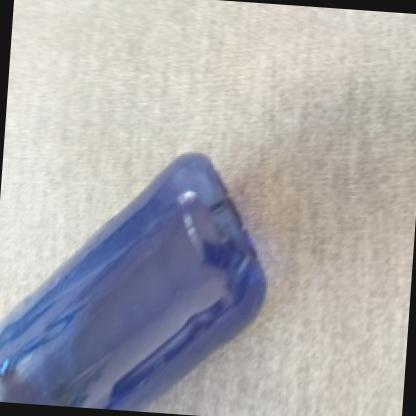plastic_bottles: (0, 138, 291, 416)
